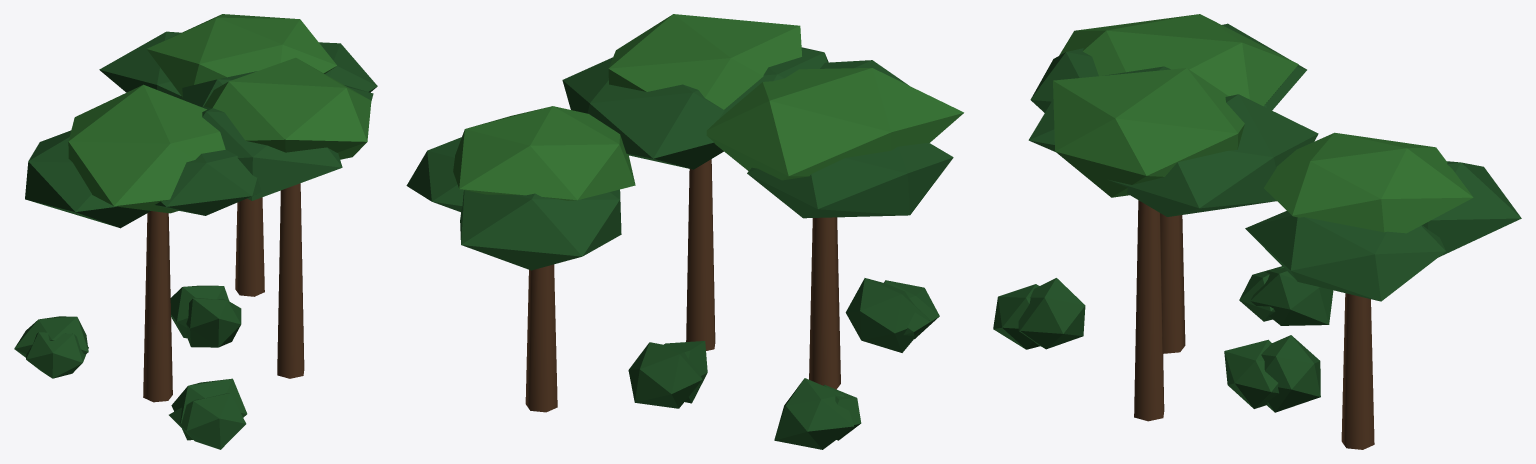
The model's file is sawyer_jungle_thicket_d.glb.
3 renders of one model, left to right at view 1: azimuth 30°, elevation 25°; view 2: azimuth 150°, elevation 25°; view 3: azimuth 270°, elevation 25°, orthographic. The views are drawn at different scales.
Visible parts, largest first — view 1: broadleaf_1_crown0, broadleaf_0_crown0, broadleaf_2_crown0, broadleaf_1_trunk, broadleaf_1_crown2, broadleaf_0_trunk, broadleaf_0_crown1, broadleaf_1_crown1, broadleaf_2_trunk, jbush_3_leaves1, jbush_4_leaves1, broadleaf_2_crown1 (+6 smaller); view 2: broadleaf_1_crown0, broadleaf_2_crown0, broadleaf_0_crown0, broadleaf_2_crown1, broadleaf_0_crown2, broadleaf_1_crown2, broadleaf_1_trunk, broadleaf_0_trunk, broadleaf_2_trunk, jbush_5_leaves0, jbush_3_leaves0, jbush_4_leaves0 (+6 smaller); view 3: broadleaf_0_crown0, broadleaf_2_crown0, broadleaf_1_crown0, broadleaf_2_crown2, broadleaf_0_crown2, broadleaf_0_trunk, broadleaf_2_trunk, broadleaf_2_crown1, jbush_3_leaves0, jbush_4_leaves0, jbush_5_leaves0, broadleaf_1_trunk (+6 smaller).
Part boxes in pixels (box(x1,y1,x2,y2)): broadleaf_1_crown0: box(68, 84, 225, 213); broadleaf_0_crown0: box(204, 57, 371, 159); broadleaf_2_crown0: box(147, 14, 336, 97); broadleaf_1_trunk: box(143, 211, 172, 402); broadleaf_1_crown2: box(25, 130, 150, 228); broadleaf_0_trunk: box(277, 183, 304, 378); broadleaf_0_crown1: box(201, 106, 342, 200); broadleaf_1_crown1: box(155, 149, 261, 215); broadleaf_2_trunk: box(235, 197, 264, 296); jbush_3_leaves1: box(169, 393, 246, 449); jbush_4_leaves1: box(186, 297, 241, 347); broadleaf_2_crown1: box(99, 31, 183, 99); broadleaf_1_crown0: box(706, 68, 963, 180); broadleaf_2_crown0: box(453, 106, 635, 200); broadleaf_0_crown0: box(608, 14, 801, 109); broadleaf_2_crown1: box(460, 189, 621, 270); broadleaf_0_crown2: box(562, 57, 724, 169); broadleaf_1_crown2: box(747, 142, 953, 218); broadleaf_1_trunk: box(809, 217, 840, 389); broadleaf_0_trunk: box(686, 159, 715, 350); broadleaf_2_trunk: box(525, 264, 557, 412); jbush_5_leaves0: box(774, 378, 854, 449); jbush_3_leaves0: box(845, 278, 929, 352); jbush_4_leaves0: box(628, 342, 702, 408); broadleaf_0_crown0: box(1053, 68, 1244, 197); broadleaf_2_crown0: box(1264, 132, 1473, 233); broadleaf_1_crown0: box(1059, 14, 1298, 106); broadleaf_2_crown2: box(1245, 211, 1445, 301); broadleaf_0_crown2: box(1109, 94, 1318, 216); broadleaf_0_trunk: box(1134, 200, 1164, 421); broadleaf_2_trunk: box(1341, 293, 1374, 449); broadleaf_2_crown1: box(1422, 161, 1521, 257); jbush_3_leaves0: box(1018, 278, 1085, 349); jbush_4_leaves0: box(1261, 335, 1320, 412); jbush_5_leaves0: box(1250, 268, 1333, 325); broadleaf_1_trunk: box(1160, 213, 1185, 353).
Bounding box in the file's own units: 5.13 × 3.6 × 5.31.
